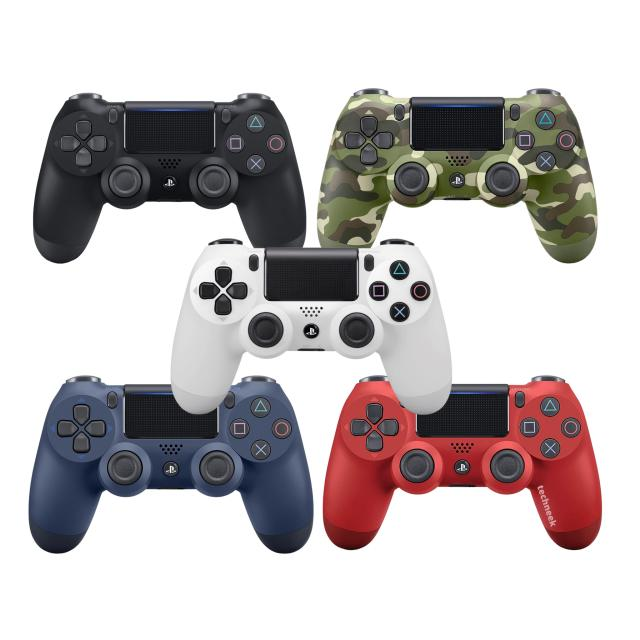ps4_controller: (323, 80, 614, 264), (36, 82, 314, 264), (181, 240, 458, 408), (55, 370, 312, 550), (342, 379, 601, 557)
